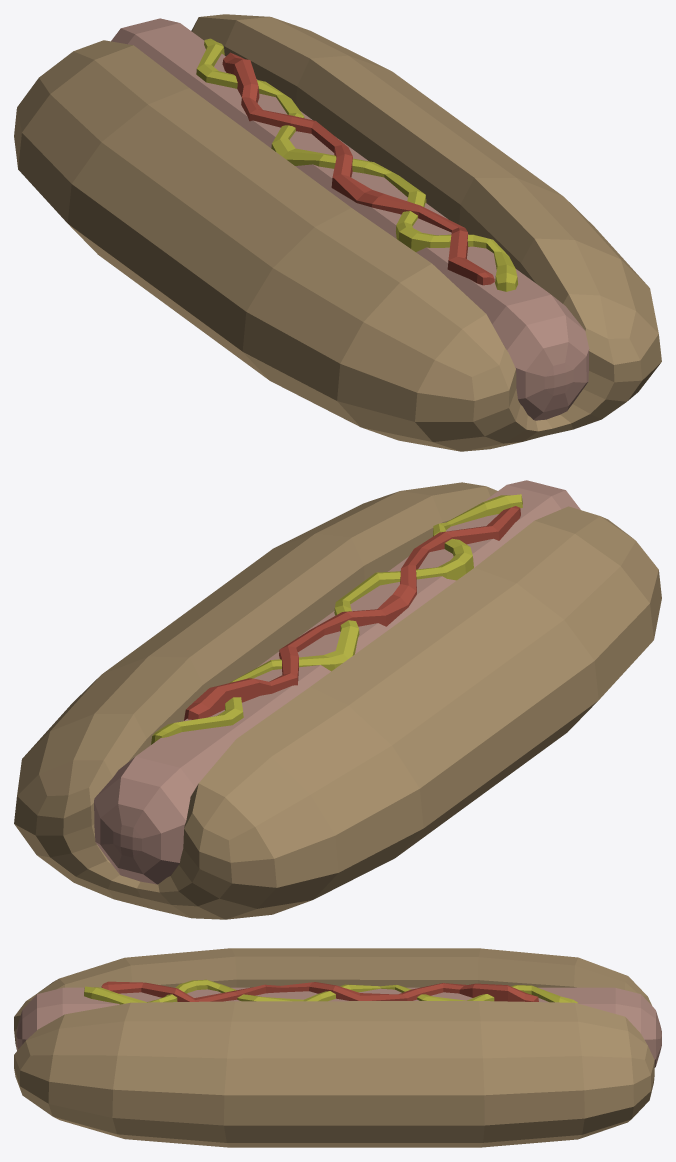
The model's file is Hotdog.glb.
3 views of the same model, one above another, from view 1: azimuth 30°, elevation 25°; view 2: azimuth 150°, elevation 25°; view 3: azimuth 270°, elevation 25° (orthographic). The views are drawn at different scales.
Visible parts, largest first — view 1: Hotdog; view 2: Hotdog; view 3: Hotdog.
Part boxes in pixels (<box>): Hotdog: <box>14,14,661,451</box>; Hotdog: <box>14,480,661,919</box>; Hotdog: <box>14,948,661,1147</box>.
Size of the model in its own units: 7.09 by 3.69 by 15.
